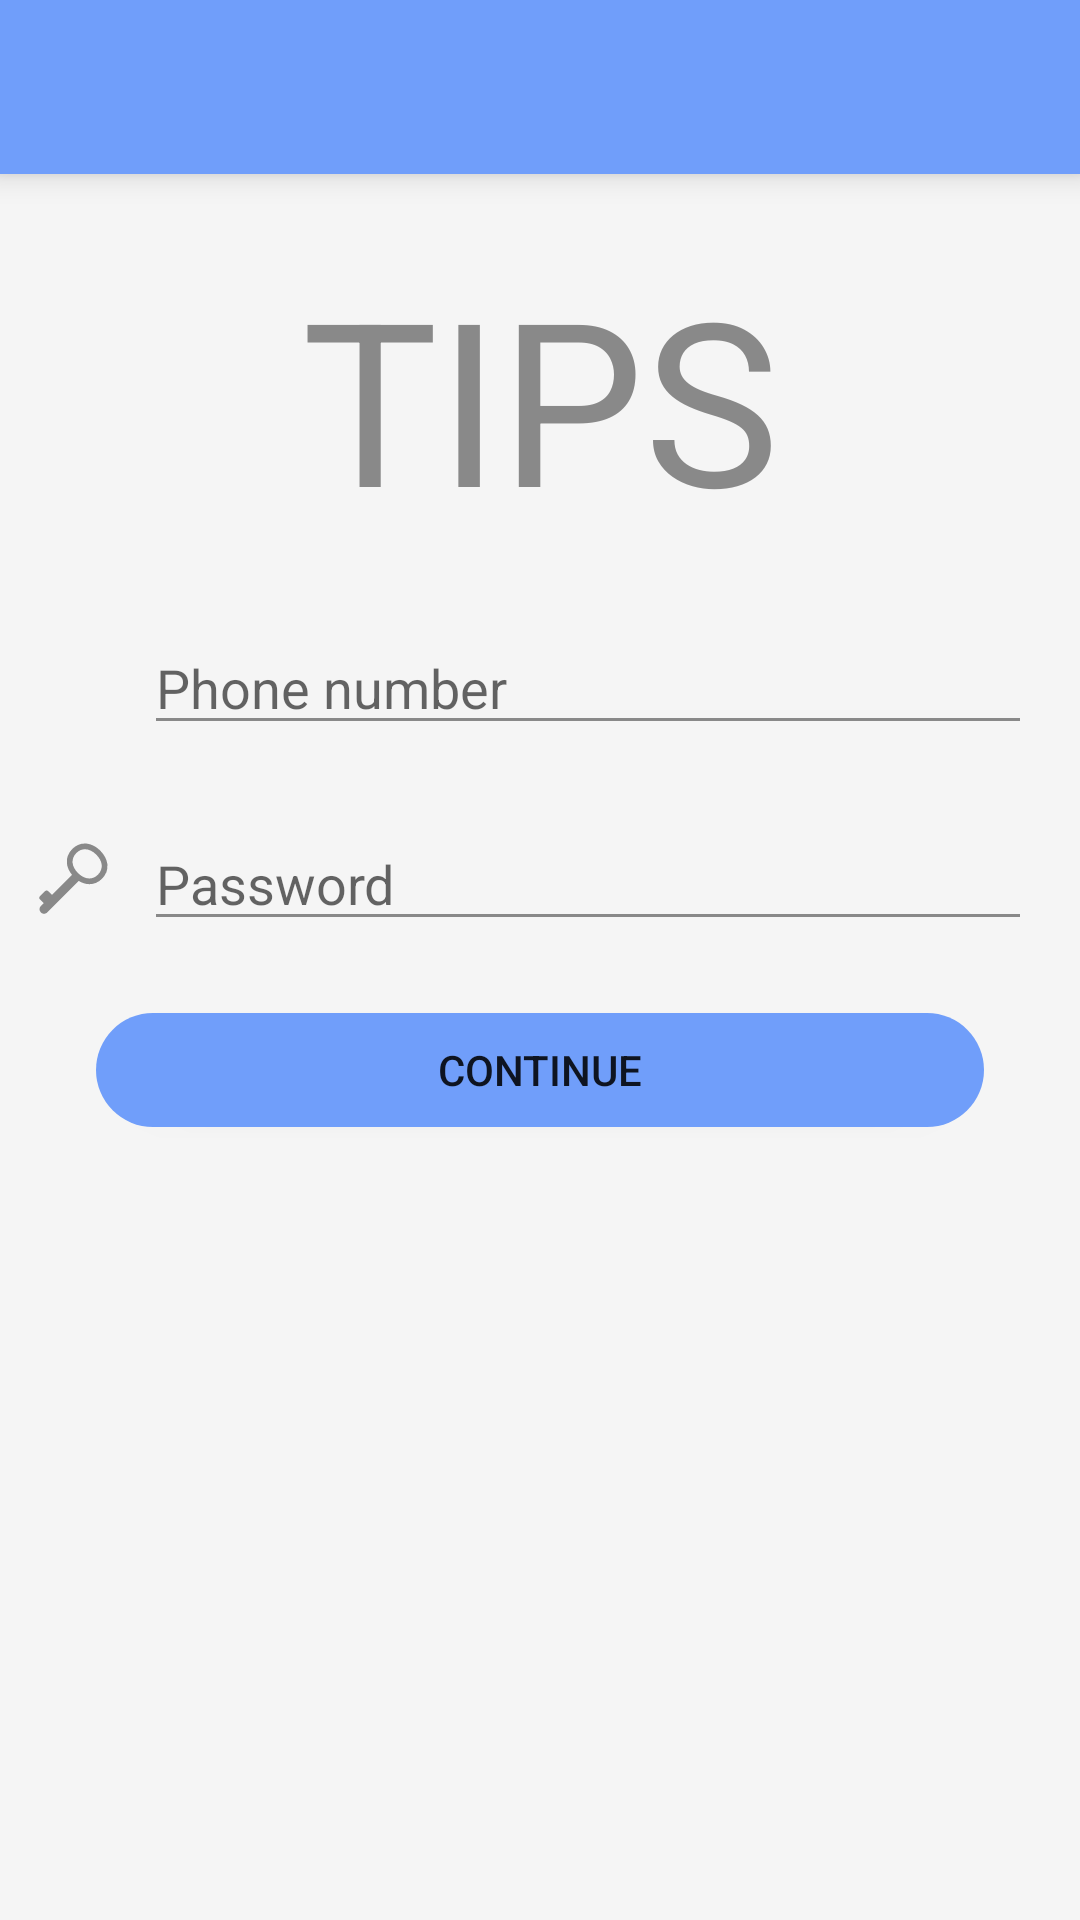

Where icons sit on this 1080px x 1920px app screen, as [left=x1, top=y1, right=x2, bottom=y2]:
key: [left=39, top=843, right=108, bottom=914]
